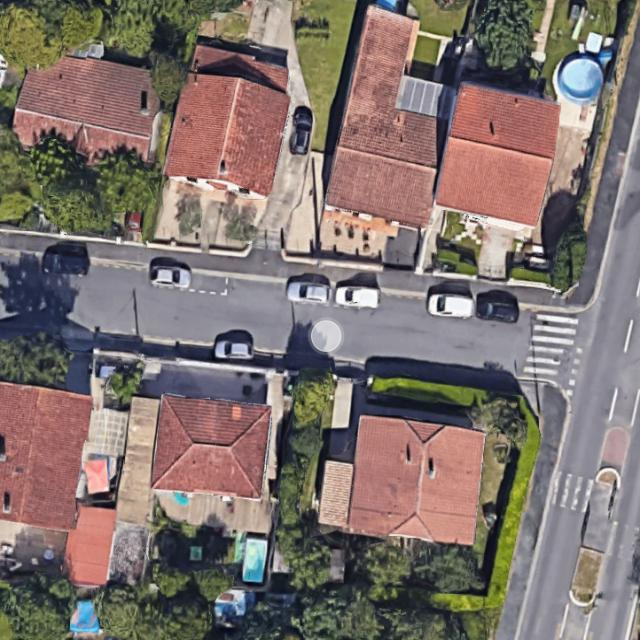maison: (321, 2, 464, 229), (317, 411, 486, 547), (162, 43, 298, 199), (8, 49, 164, 171), (433, 82, 564, 227), (0, 381, 92, 532), (150, 394, 271, 501)
